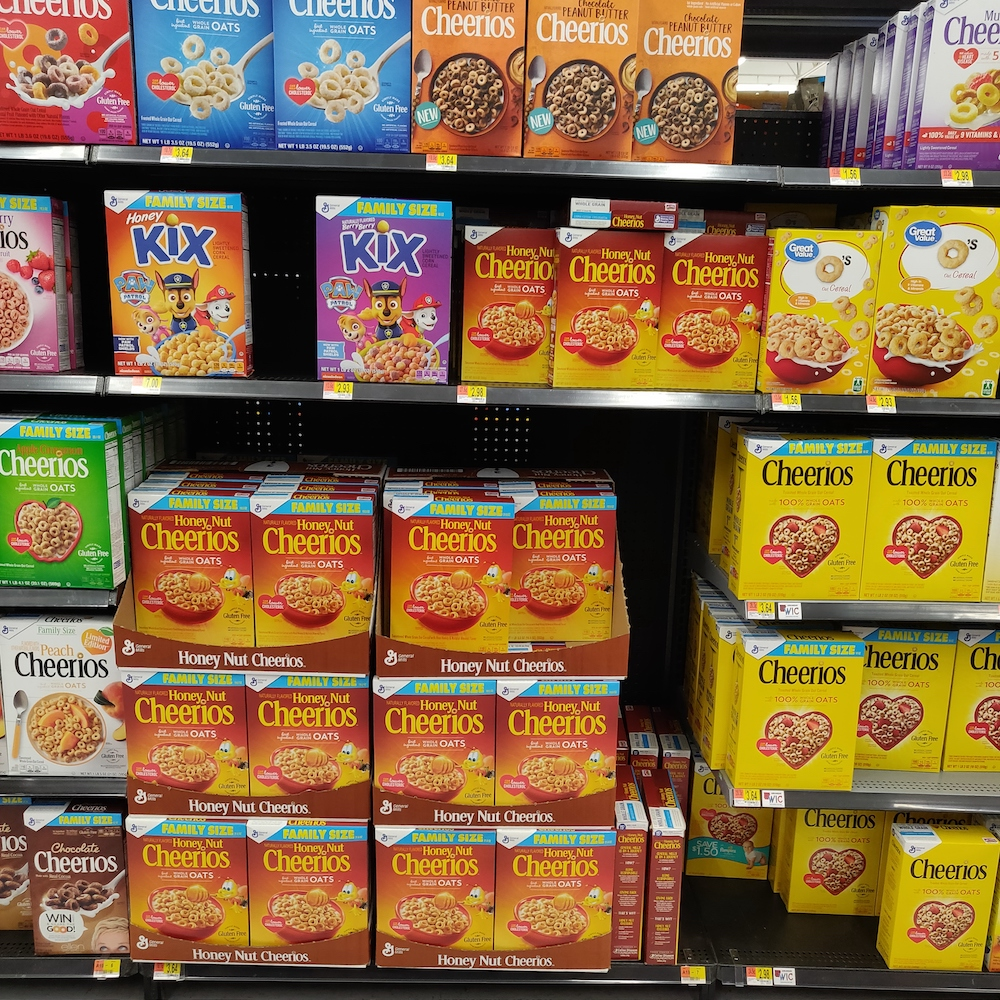Kix Berry -568919964: (317, 191, 460, 384)
Kix Honey -009258981: (109, 200, 251, 384)
